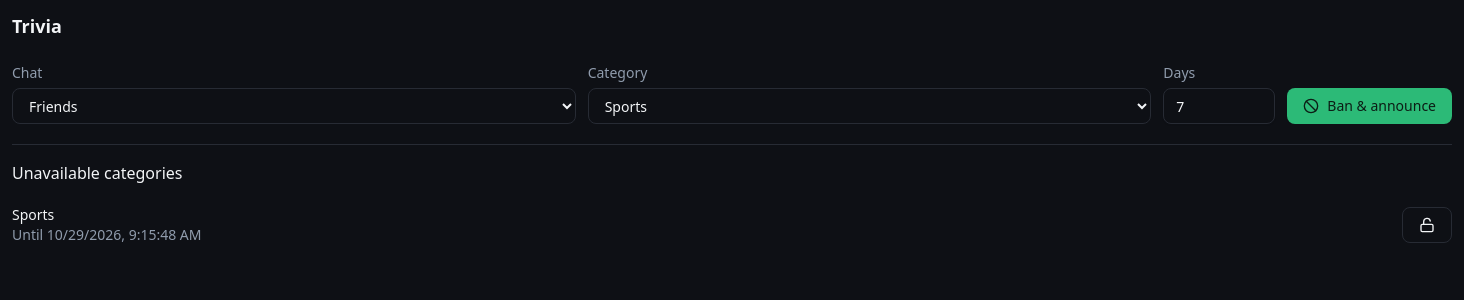
Test: TriviaSettings › rejects fractional durations and displays server failures
The image size is (1464, 300).
Replace the text in the number field labelled "Days" with "1.5" at (1219, 106), box x1=1163 y1=88 x2=1275 y2=124
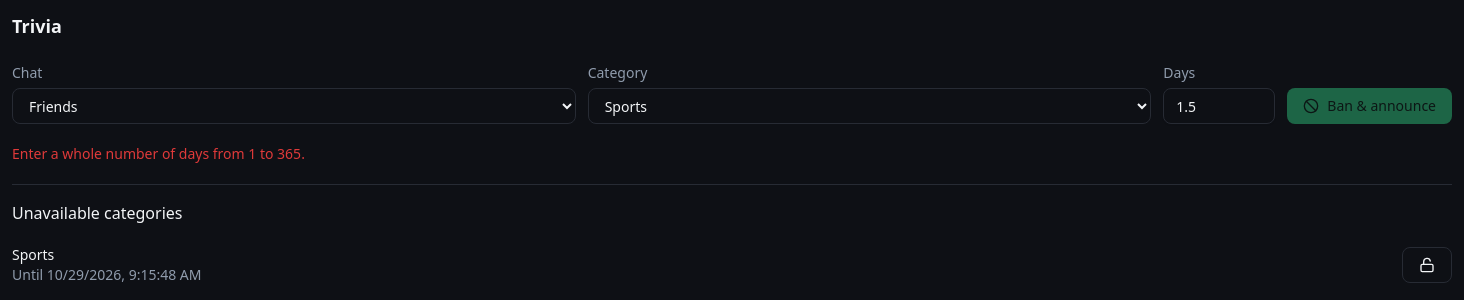
Check: the button "Ban & announce" is disabled, box x1=1287 y1=88 x2=1452 y2=124
Replace the text in the number field labelled "Days" with "2" at (1219, 106), box x1=1163 y1=88 x2=1275 y2=124
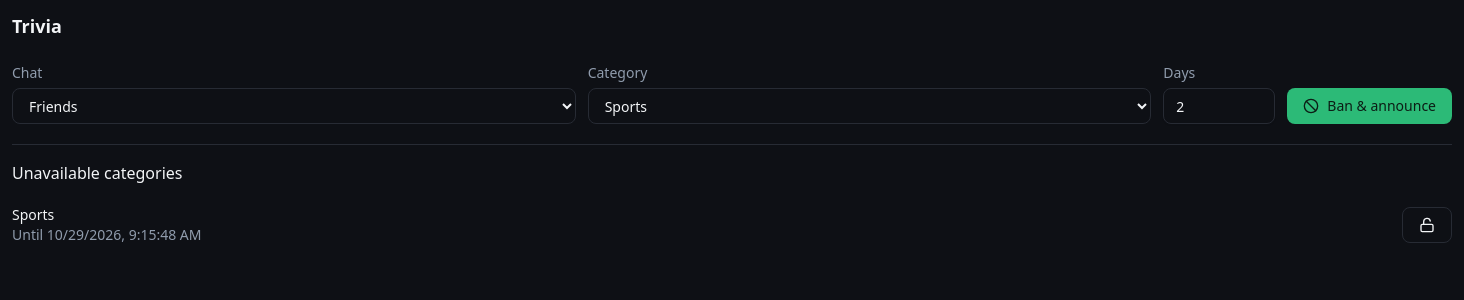
Click the button "Ban & announce".
click(1370, 106)  # box x1=1287 y1=88 x2=1452 y2=124
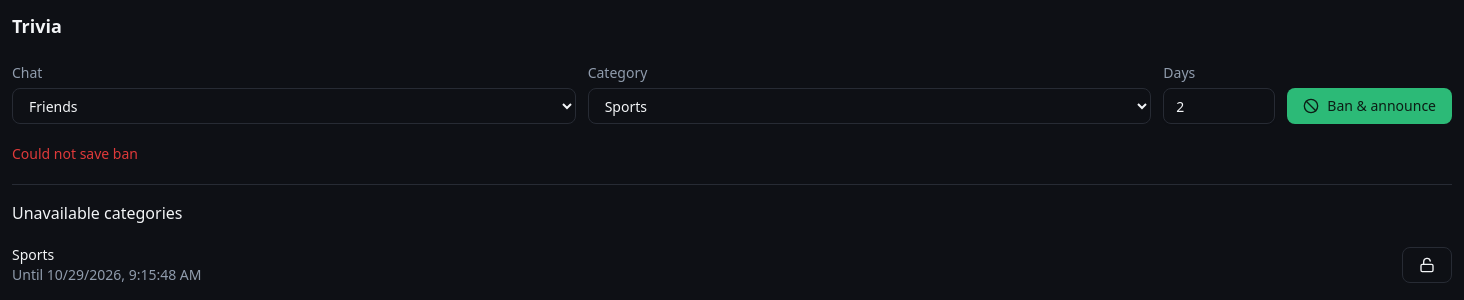
Check: the text "Could not save ban" is shown, box x1=12 y1=144 x2=138 y2=163
